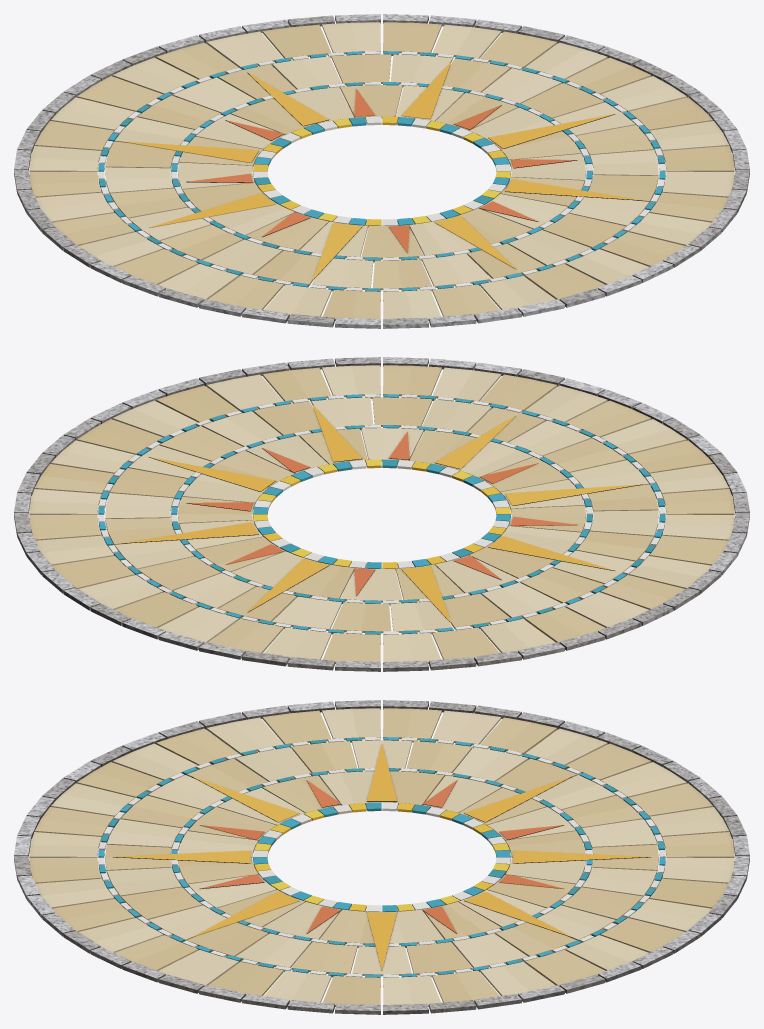
The model's file is hub_paving.fbx.
3 views of the same model, one above another, from view 1: azimuth 30°, elevation 25°; view 2: azimuth 150°, elevation 25°; view 3: azimuth 270°, elevation 25° (orthographic).
Parts seen in each view (by area): view 1: hub_paving_body; view 2: hub_paving_body; view 3: hub_paving_body.
Part boxes in pixels (left/top/right/bottom): hub_paving_body: left=14, top=14, right=749, bottom=328; hub_paving_body: left=14, top=357, right=749, bottom=671; hub_paving_body: left=14, top=700, right=749, bottom=1014.
Bounding box in the file's own units: 9700 × 55 × 9700.
1 material, 1 textured.
